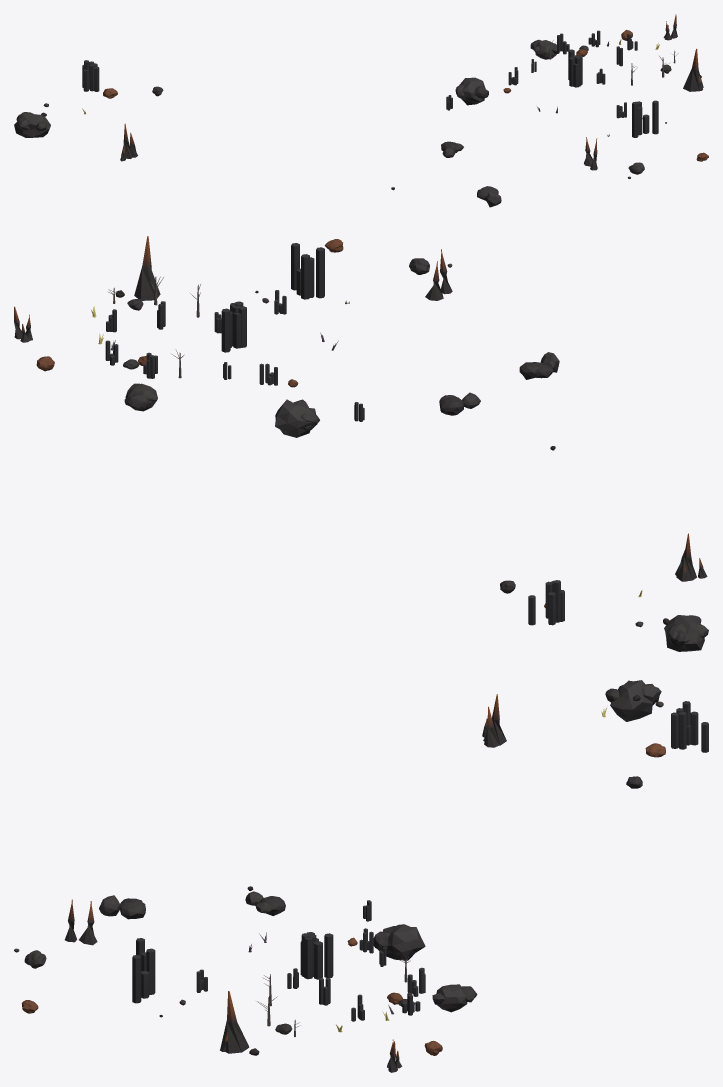
File: ash_land_scatter_c22_31.glb
3 views of the same model, one above another, from view 1: azimuth 30°, elevation 25°; view 2: azimuth 150°, elevation 25°; view 3: azimuth 270°, elevation 25° (orthographic). The views are drawn at different scales.
Parts seen in each view (by area): view 1: ash_land_scatter_c22_31; view 2: ash_land_scatter_c22_31; view 3: ash_land_scatter_c22_31.
Boxes of the visible parts, left/top/right/bottom form: ash_land_scatter_c22_31: left=14, top=14, right=708, bottom=207; ash_land_scatter_c22_31: left=14, top=236, right=708, bottom=651; ash_land_scatter_c22_31: left=14, top=680, right=708, bottom=1072.
Size of the model in its own units: 190 by 23.56 by 138.
